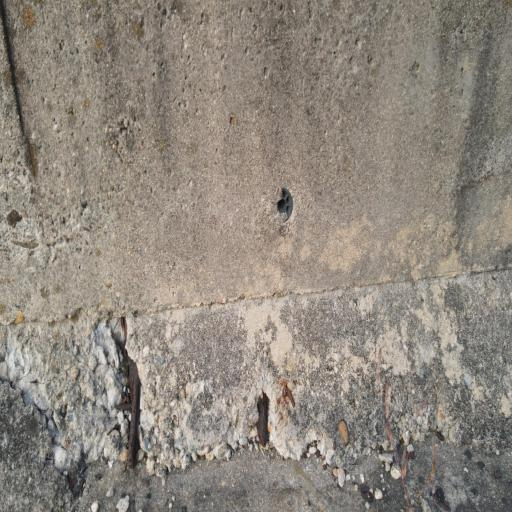exposed_rebar: (127, 361, 141, 468), (257, 393, 269, 448)
